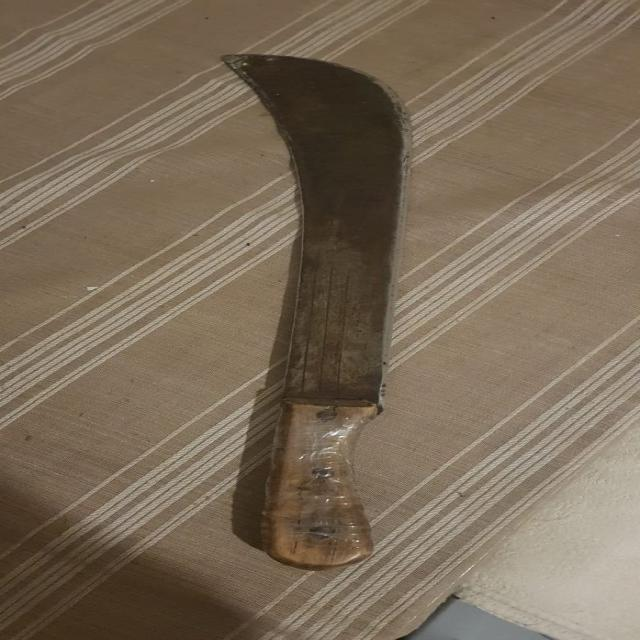Sharp-Object: (207, 51, 410, 572)
